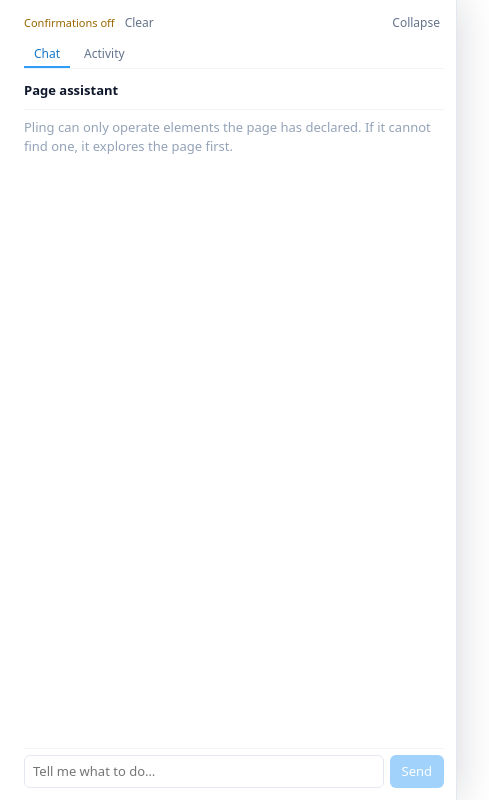
Test: React agent surfaces › renders dock and sidebar placement through public props
This screenshot has width=489, height=800.
Step 1. Click the button "Collapse" → (416, 22), box x1=388 y1=12 x2=444 y2=33
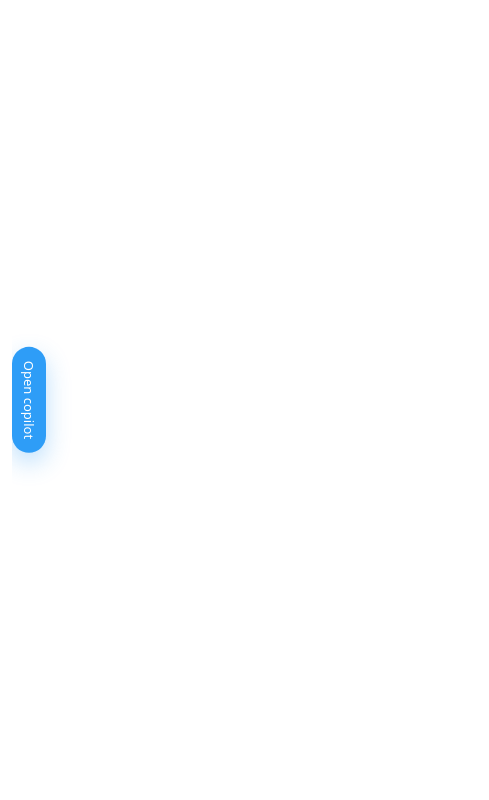
Now the button "Open copilot" is shown, box x1=12 y1=347 x2=46 y2=453
